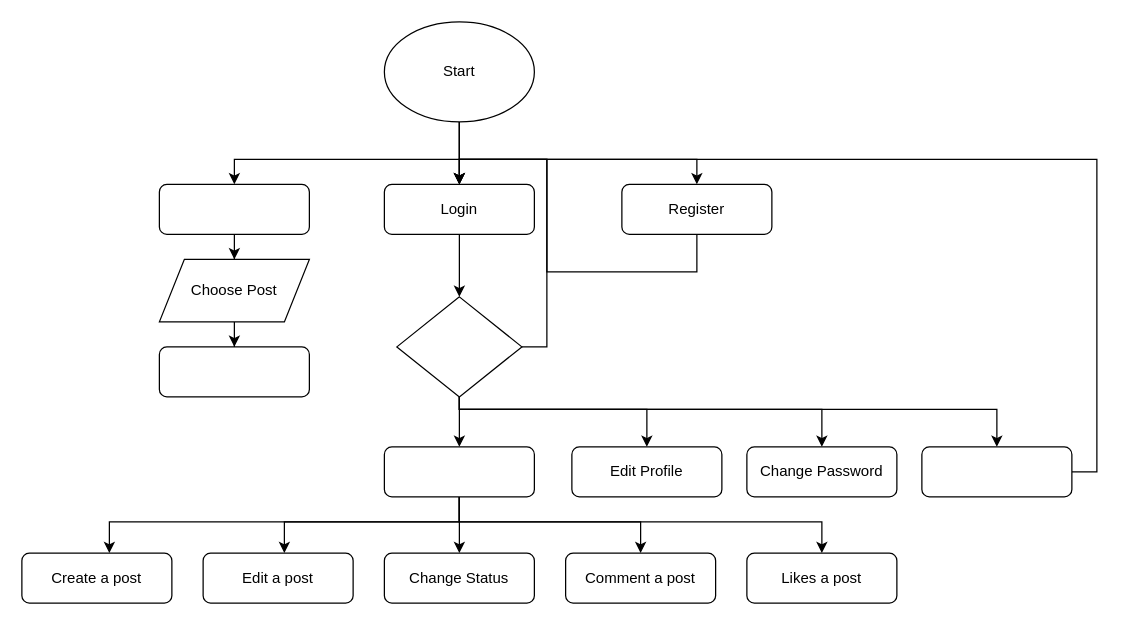
Image size: 1129x625. Some labels were removed from this diagram. Here are the shapes that lost their labels. From the top down, the centre of each, then its label:
At point (233, 208): "See all Post".
At point (459, 346): "Authentication".
At point (233, 371): "Detail Post".
At point (458, 471): "See all Post That you have".
At point (996, 471): "Logout".
